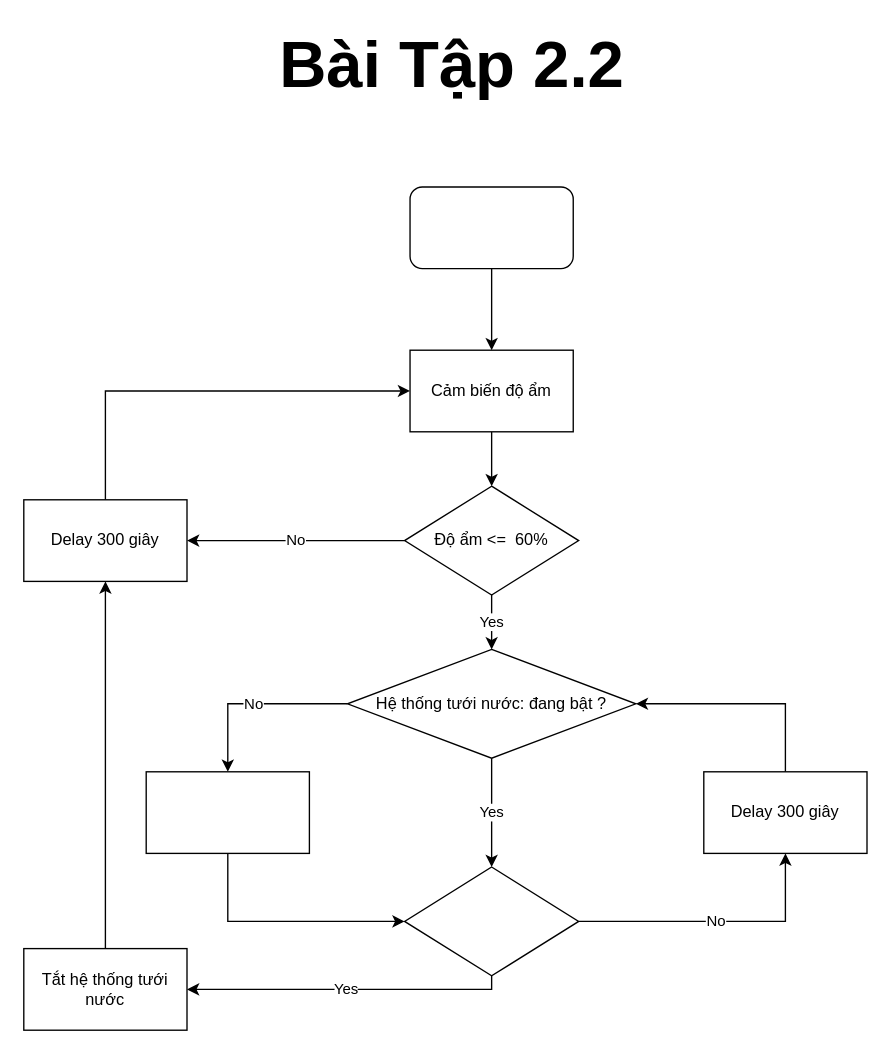
Some shapes in this 891 by 1054 pixel diagram are drawn without their labels. The shapes that lost their labels are listed below. From the top down, each one's box as (x1, y1, x2, y2) in pixels, then its label:
(409, 186, 573, 269): Bắt đầu
(145, 770, 309, 853): Bật hệ thống tưới nước
(403, 866, 579, 976): Độ ẩm >= 70%
